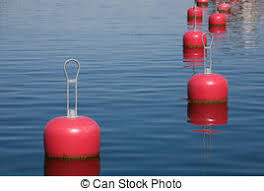buoy: (45, 116, 101, 159), (188, 74, 228, 102), (184, 31, 207, 47), (209, 14, 227, 25), (188, 8, 202, 17), (219, 5, 230, 10)
